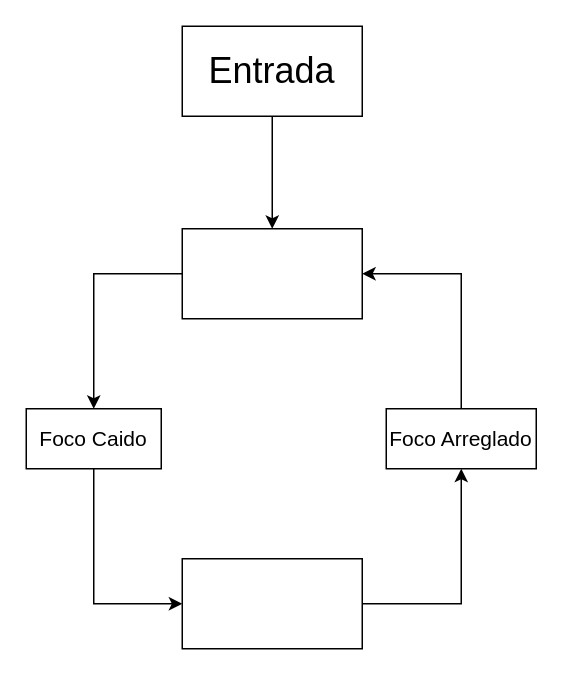
This 563x675 diagram has some shape labels left out. The shapes that lost their labels are listed below. From the top down, each one's box as (x1, y1, x2, y2) in pixels, then its label:
(181, 227, 362, 319): Sentarse en Butacas
(181, 557, 362, 649): Huir al Vestíbulo
